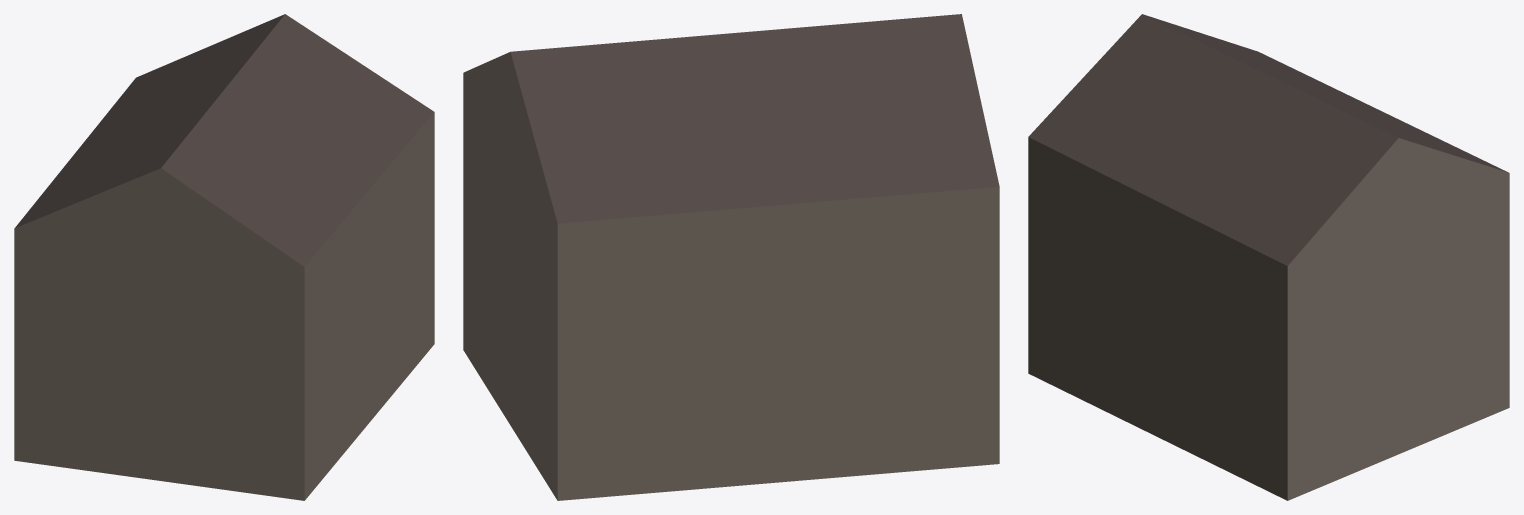
3 views of the same model, side by side, from view 1: azimuth 30°, elevation 25°; view 2: azimuth 150°, elevation 25°; view 3: azimuth 270°, elevation 25° (orthographic). The views are drawn at different scales.
Visible parts, largest first — view 1: HP-w1513026727; view 2: HP-w1513026727; view 3: HP-w1513026727.
Boxes of the visible parts, box(x1,y1,x2,y2) form: HP-w1513026727: box(14, 14, 434, 500); HP-w1513026727: box(463, 14, 999, 500); HP-w1513026727: box(1028, 14, 1509, 500).
Size of the model in its own units: 11.76 by 8.09 by 11.15.
